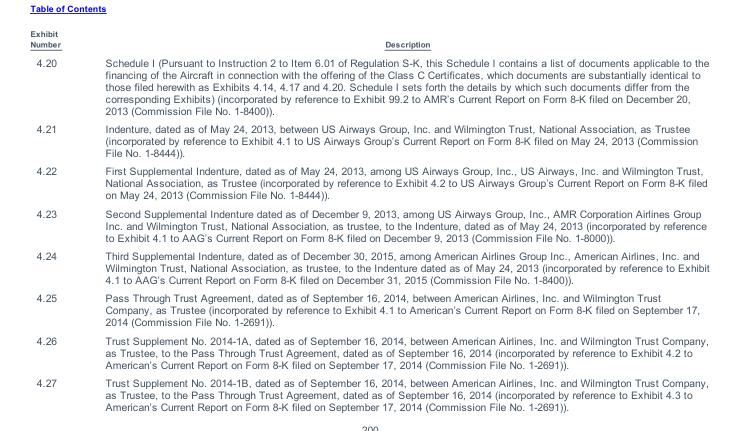table: (29, 28, 708, 400)
table column: (82, 28, 708, 400), (29, 28, 82, 400)
table column header: (29, 28, 708, 52)
table row: (29, 52, 708, 119), (29, 203, 708, 246), (29, 288, 708, 331), (29, 119, 708, 161), (29, 161, 708, 203), (29, 246, 708, 288), (29, 331, 708, 373), (29, 373, 708, 400), (29, 28, 708, 52)
